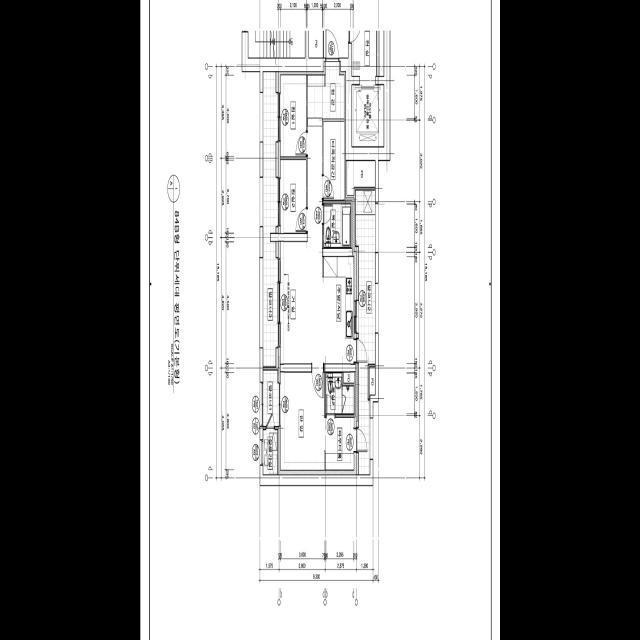background: (140, 0, 500, 640)
space_balconi: (355, 190, 375, 474), (263, 72, 277, 367), (263, 370, 278, 426)
space_bedroom: (279, 372, 324, 474), (278, 72, 306, 157), (278, 159, 306, 233)
space_dressroom: (325, 417, 354, 470)
space_elevator: (352, 85, 383, 146)
space_elevator_hall: (352, 31, 383, 76), (326, 30, 348, 58)
space_front: (307, 62, 345, 119)
space_kitchen: (323, 256, 356, 364)
space_living_room: (278, 118, 323, 364)
space_multipurpose_space: (323, 121, 345, 200)
space_other: (347, 161, 375, 195), (309, 31, 323, 57), (369, 367, 375, 397), (343, 372, 354, 383)
space_outdoor_room: (263, 429, 277, 474)
space_staircase: (248, 31, 305, 57)
space_toilet: (323, 203, 351, 248), (326, 373, 341, 413), (342, 386, 354, 414)
